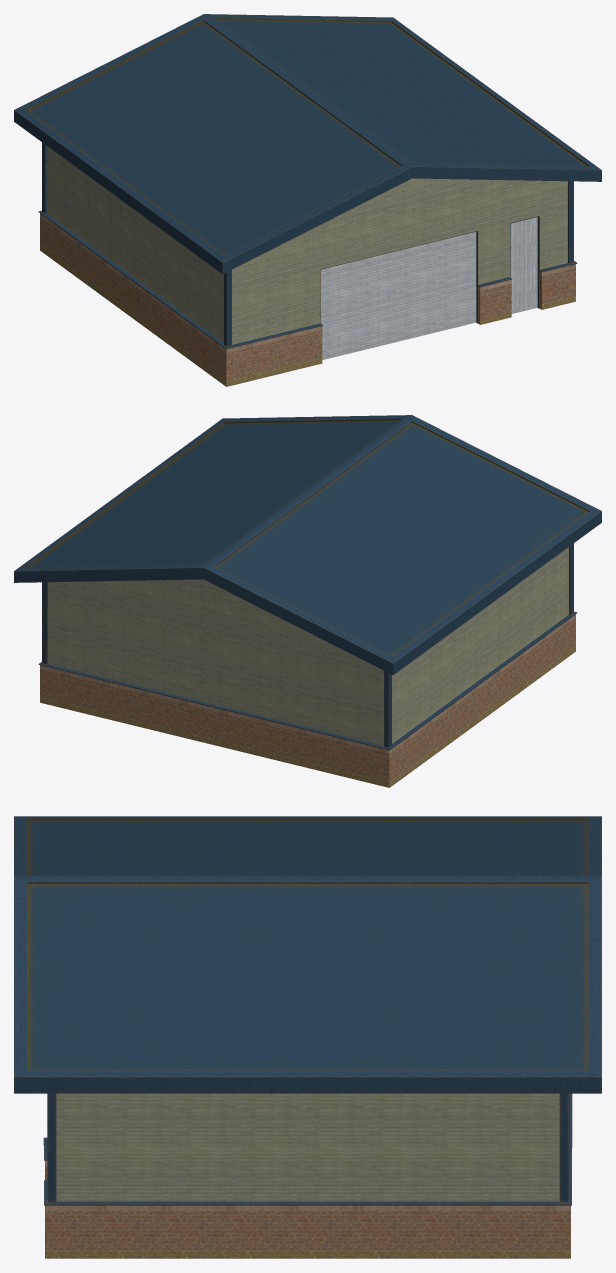
File: garasje.glb
3 views of the same model, one above another, from view 1: azimuth 30°, elevation 25°; view 2: azimuth 150°, elevation 25°; view 3: azimuth 270°, elevation 25° (orthographic). The views are drawn at different scales.
Visible parts, largest first — view 1: roof, building, gate, base, door, frame; view 2: roof, building, base; view 3: roof, building, base.
Boxes of the visible parts, x1=… form: roof: x1=14, y1=14, x2=601, y2=274; building: x1=40, y1=146, x2=575, y2=386; gate: x1=321, y1=232, x2=476, y2=359; base: x1=38, y1=142, x2=577, y2=349; door: x1=510, y1=217, x2=537, y2=313; frame: x1=320, y1=215, x2=539, y2=323; roof: x1=14, y1=415, x2=601, y2=675; building: x1=40, y1=547, x2=575, y2=787; base: x1=38, y1=543, x2=577, y2=750; roof: x1=14, y1=816, x2=601, y2=1093; building: x1=45, y1=1093, x2=570, y2=1258; base: x1=43, y1=1093, x2=572, y2=1205.
Size of the model in its own units: 9.64 by 4.51 by 9.18.
Materials: 1 (1 with a texture image).
